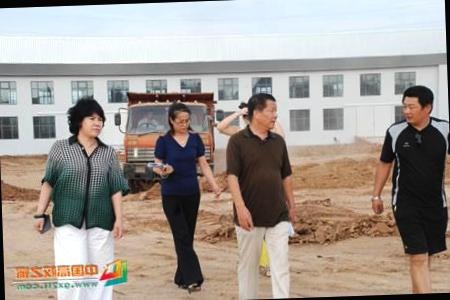no_helmet: (68, 96, 108, 140), (398, 84, 436, 128), (245, 91, 283, 132), (162, 97, 194, 137)
